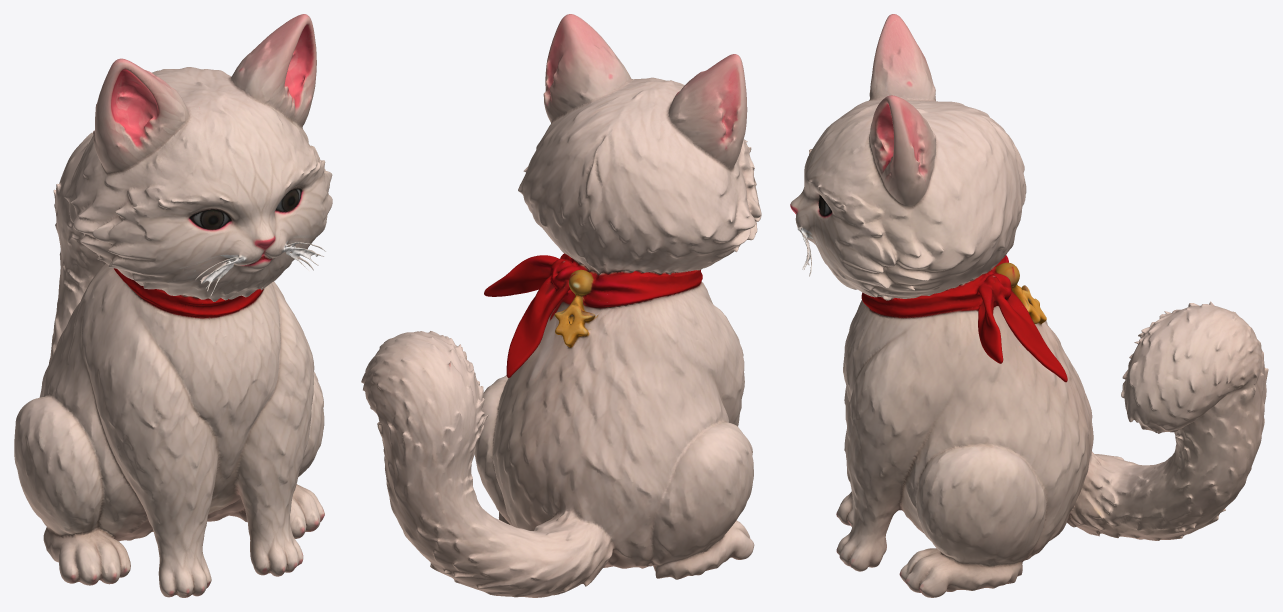
File: meshy-white-cat-red-scarf.glb
3 renders of one model, left to right at view 1: azimuth 30°, elevation 25°; view 2: azimuth 150°, elevation 25°; view 3: azimuth 270°, elevation 25°, orthographic. The views are drawn at different scales.
Bounding box in the file's own units: 0.989 × 1.67 × 1.49.
1 material, 1 textured.
